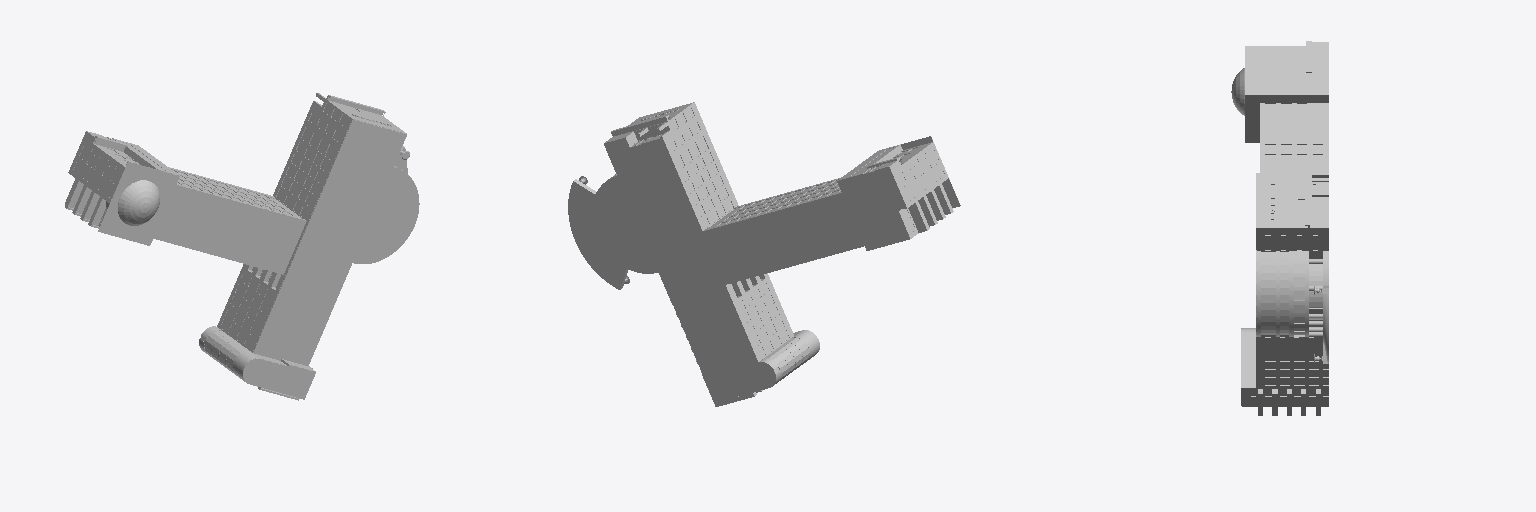
Rendered from ssovet.obj.
The picture shows the model from 3 angles: view 1: azimuth 30°, elevation 25°; view 2: azimuth 150°, elevation 25°; view 3: azimuth 270°, elevation 25°; orthographic projection.
Parts seen in each view (by area): view 1: Box01, GL_02, ????12, STUP_01; view 2: GL_02, ????12, STUP_01, Box01; view 3: GL_02, ????12, STUP_01, Box01.
Part boxes in pixels (x1,y1,x2,y2): Box01: (98,119,419,399); GL_02: (65,99,417,399); ????12: (73,103,357,372); STUP_01: (65,93,407,400); GL_02: (572,102,948,402); ????12: (653,108,944,401); STUP_01: (568,115,953,406); Box01: (694,102,960,342); GL_02: (1242,42,1328,406); ????12: (1249,59,1328,395); STUP_01: (1258,41,1328,415); Box01: (1231,68,1260,405).
Size of the model in its own units: 375 by 294 by 89.81.